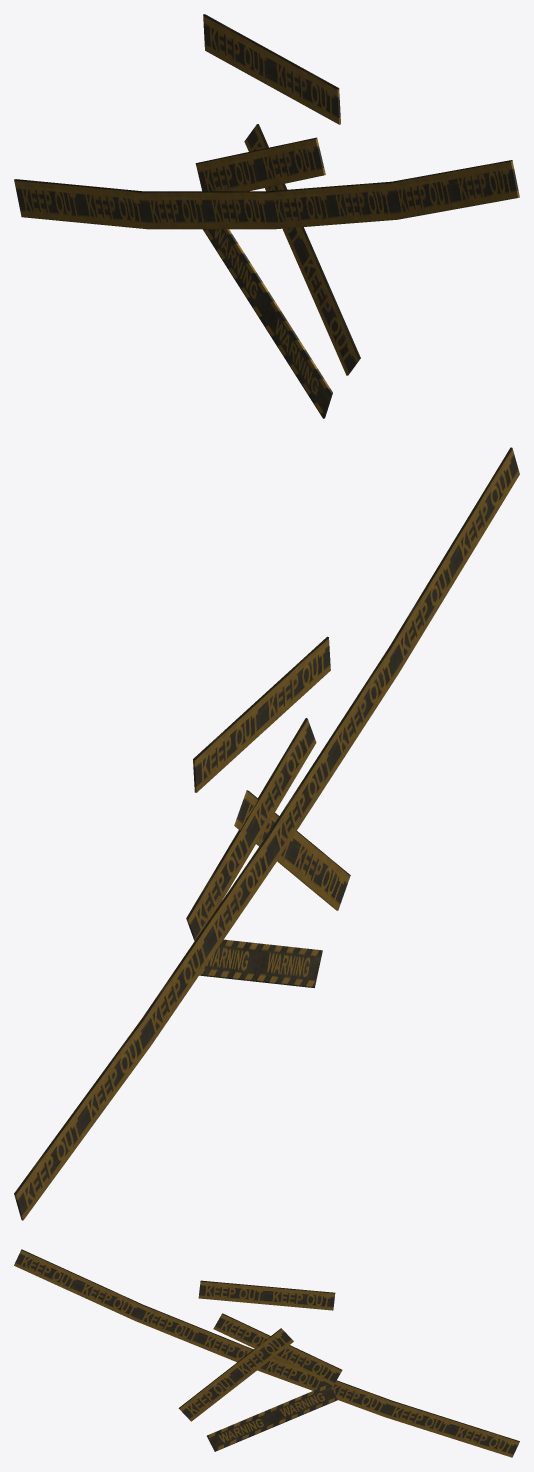
Rendered from crime_scene_band.glb.
The picture shows the model from 3 angles, top to bottom: view 1: azimuth 30°, elevation 25°; view 2: azimuth 150°, elevation 25°; view 3: azimuth 270°, elevation 25°; orthographic projection. The views are drawn at different scales.
Visible parts, largest first — view 1: Keep_Out, Keep_Out.001_Material_0.001, Warning.001, Keep_Out.001_Material_0.002, Keep_Out.001; view 2: Keep_Out, Keep_Out.001_Material_0.002, Keep_Out.001_Material_0.001, Warning.001, Keep_Out.001; view 3: Keep_Out, Keep_Out.001_Material_0.001, Warning.001, Keep_Out.001, Keep_Out.001_Material_0.002.
Boxes of the visible parts, x1=… form: Keep_Out: x1=14, y1=160, x2=519, y2=229; Keep_Out.001_Material_0.001: x1=203, y1=14, x2=340, y2=124; Warning.001: x1=203, y1=229, x2=332, y2=418; Keep_Out.001_Material_0.002: x1=195, y1=137, x2=325, y2=191; Keep_Out.001: x1=244, y1=124, x2=360, y2=375; Keep_Out: x1=14, y1=447, x2=519, y2=1220; Keep_Out.001_Material_0.002: x1=186, y1=718, x2=316, y2=940; Keep_Out.001_Material_0.001: x1=193, y1=636, x2=330, y2=792; Warning.001: x1=199, y1=939, x2=322, y2=987; Keep_Out.001: x1=234, y1=790, x2=350, y2=910; Keep_Out: x1=14, y1=1249, x2=519, y2=1457; Keep_Out.001_Material_0.001: x1=198, y1=1280, x2=335, y2=1310; Warning.001: x1=207, y1=1384, x2=337, y2=1451; Keep_Out.001: x1=178, y1=1328, x2=293, y2=1421; Keep_Out.001_Material_0.002: x1=213, y1=1313, x2=342, y2=1385.
Size of the model in its own units: 0.0561 by 3.2 by 7.05.
1 material, 1 textured.
